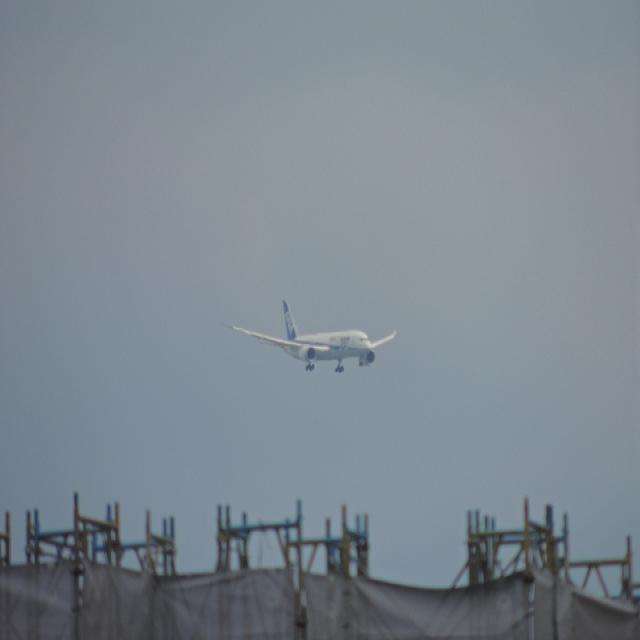airplane: (227, 298, 399, 376)
